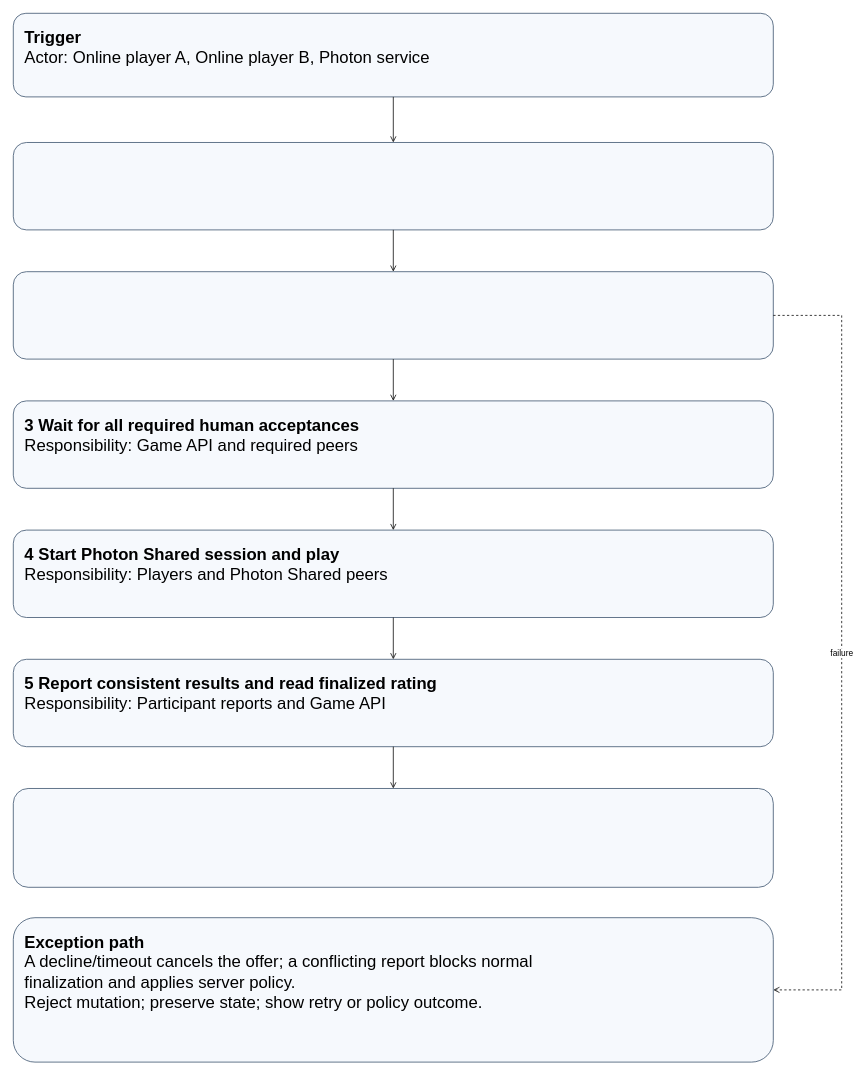
The diagram is 866 pixels wide and 1075 high, and some of its shapes have lost their labels. Here are the shapes that lost their labels. From the top down, the centre of each, then its label:
[393,186]: 1 Join eligible skill queue Responsibility: Player and queue API
[393,315]: 2 Poll canonical offer and accept Responsibility: Player decision and Game API
[393,837]: Business outcome A canonical match result updates each participant once.
